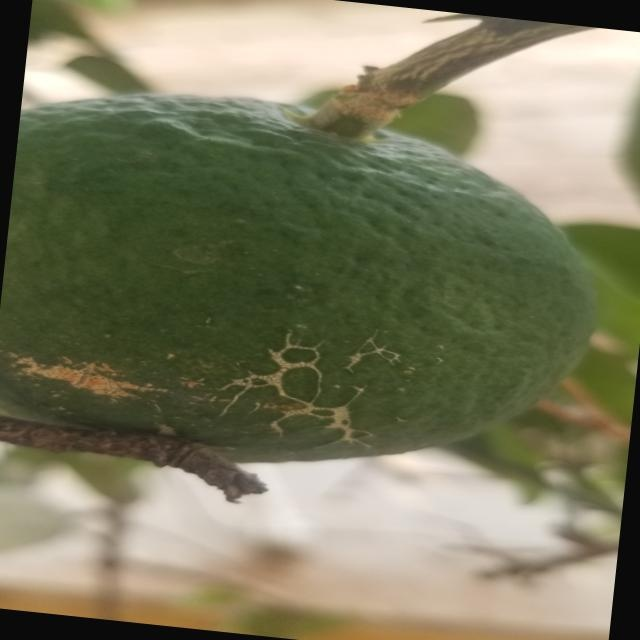agrume: (0, 63, 617, 505)
